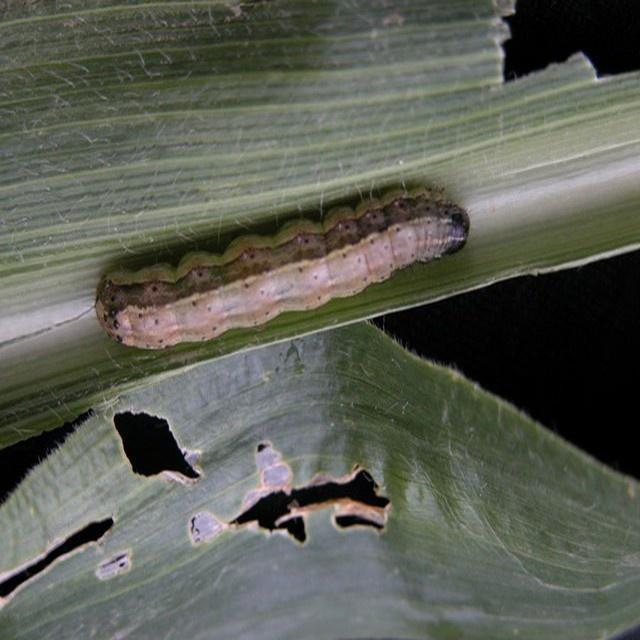gusano_cogollero: (94, 187, 472, 350)
